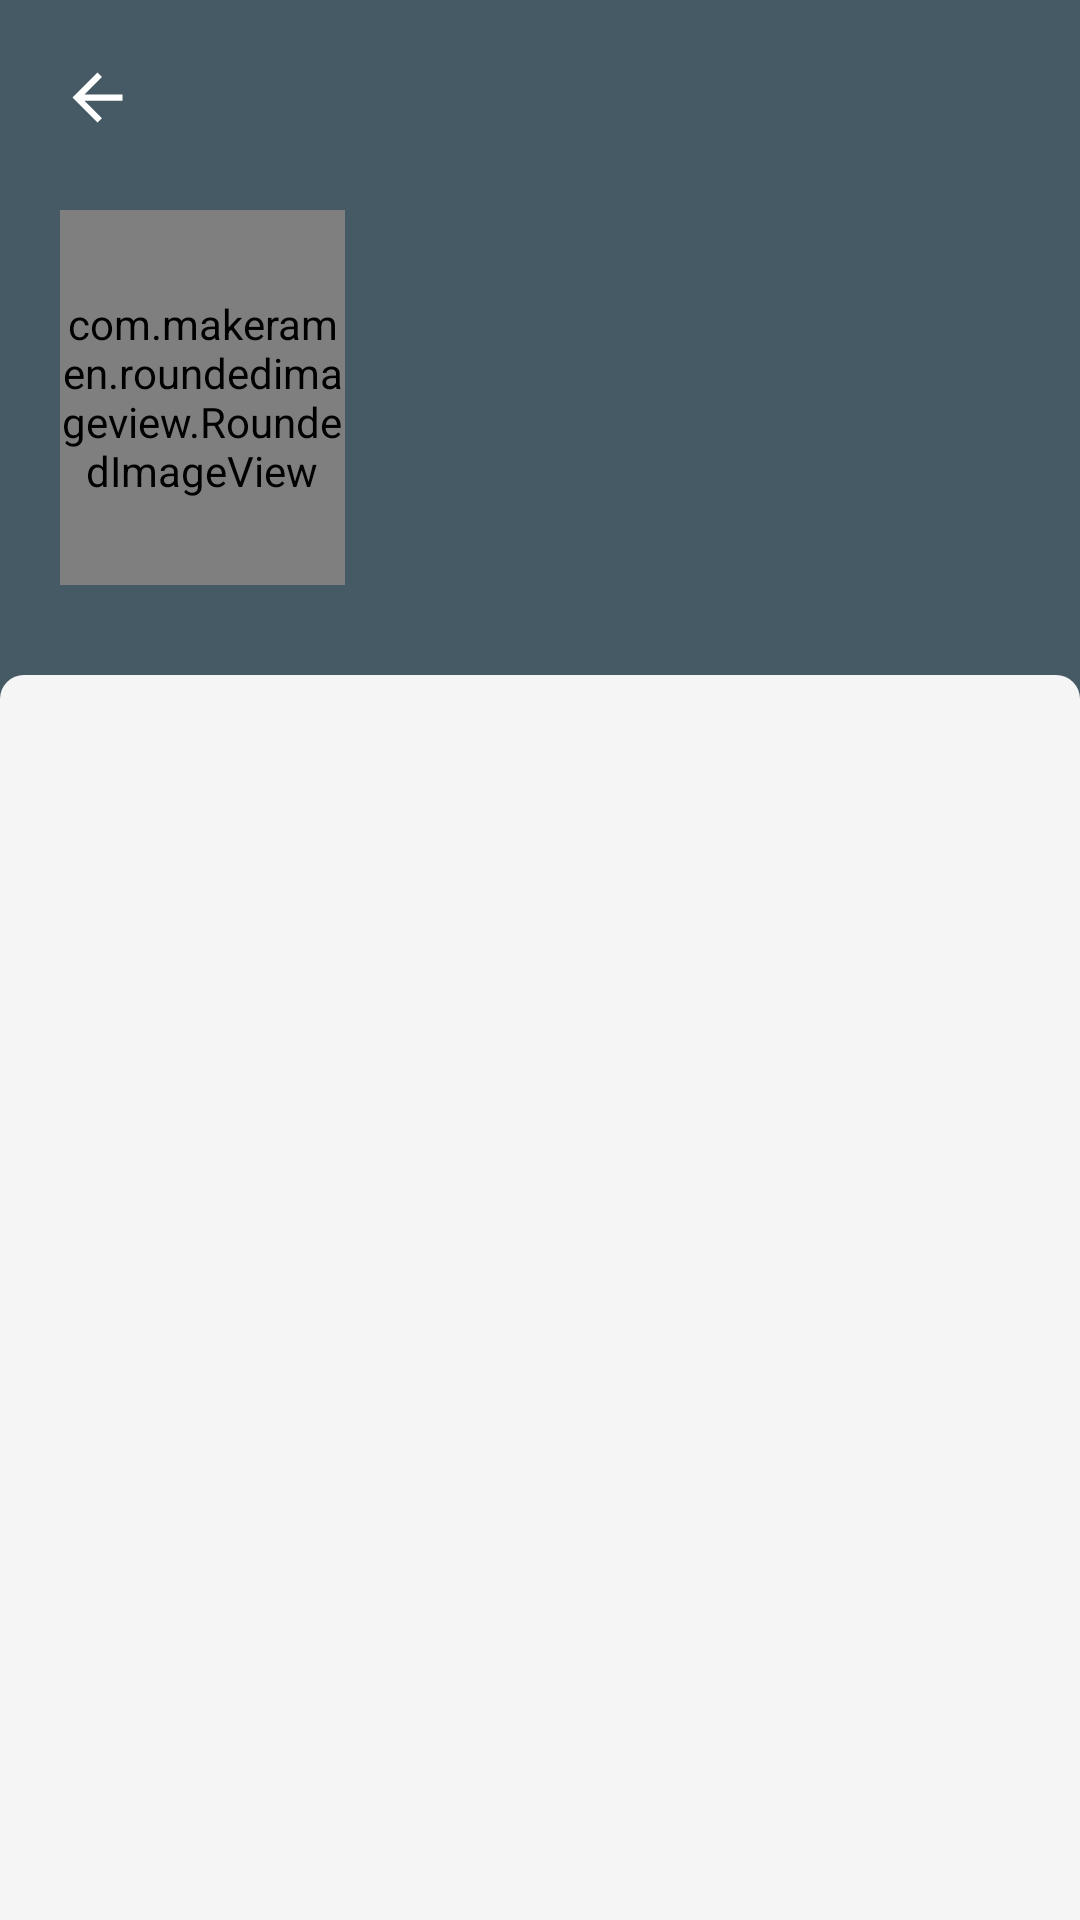

Locate icon controls on the screen. Image size 1080x1920, boxes as (x1, y1, x2, y2).
arrow back: (72, 72, 123, 123)
